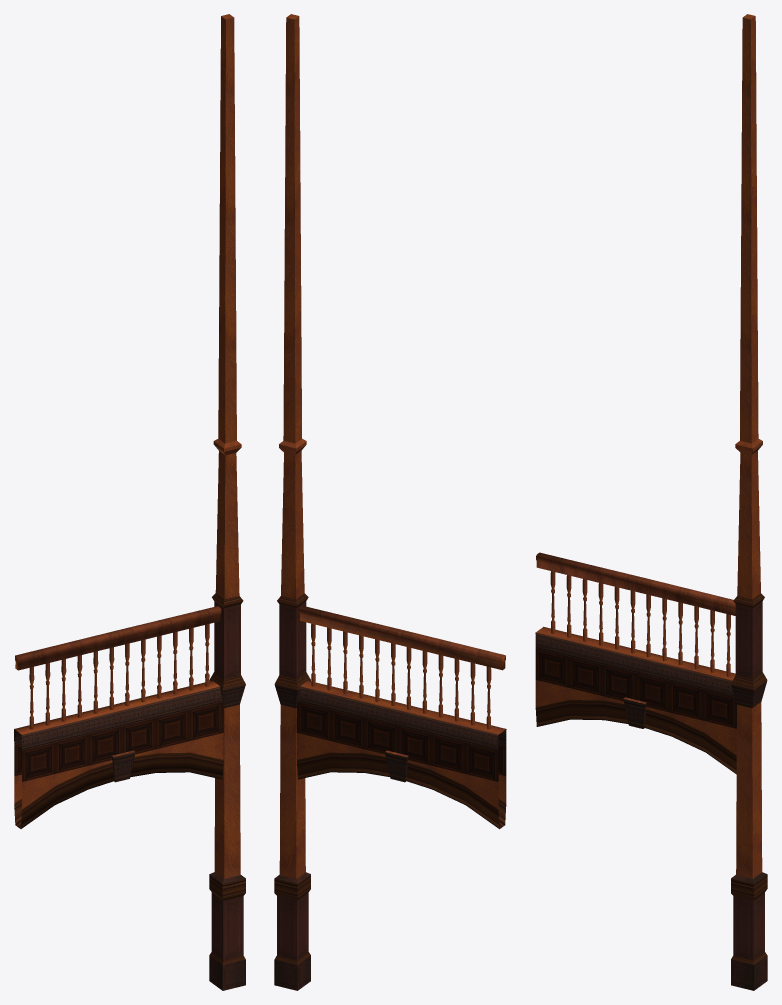
Rendered from Balconey_1_Pole.fbx.
3 renders of one model, left to right at view 1: azimuth 30°, elevation 25°; view 2: azimuth 150°, elevation 25°; view 3: azimuth 330°, elevation 25°, orthographic.
Parts seen in each view (by area): view 1: Balcony_1_Pole_LOD0; view 2: Balcony_1_Pole_LOD0; view 3: Balcony_1_Pole_LOD0.
Boxes of the visible parts, x1,y1,x2,y2 form: Balcony_1_Pole_LOD0: (14, 14, 245, 990); Balcony_1_Pole_LOD0: (274, 14, 506, 990); Balcony_1_Pole_LOD0: (535, 14, 767, 990).
Size of what is drawn, in the model's own units: 355 by 1473 by 37.26.
